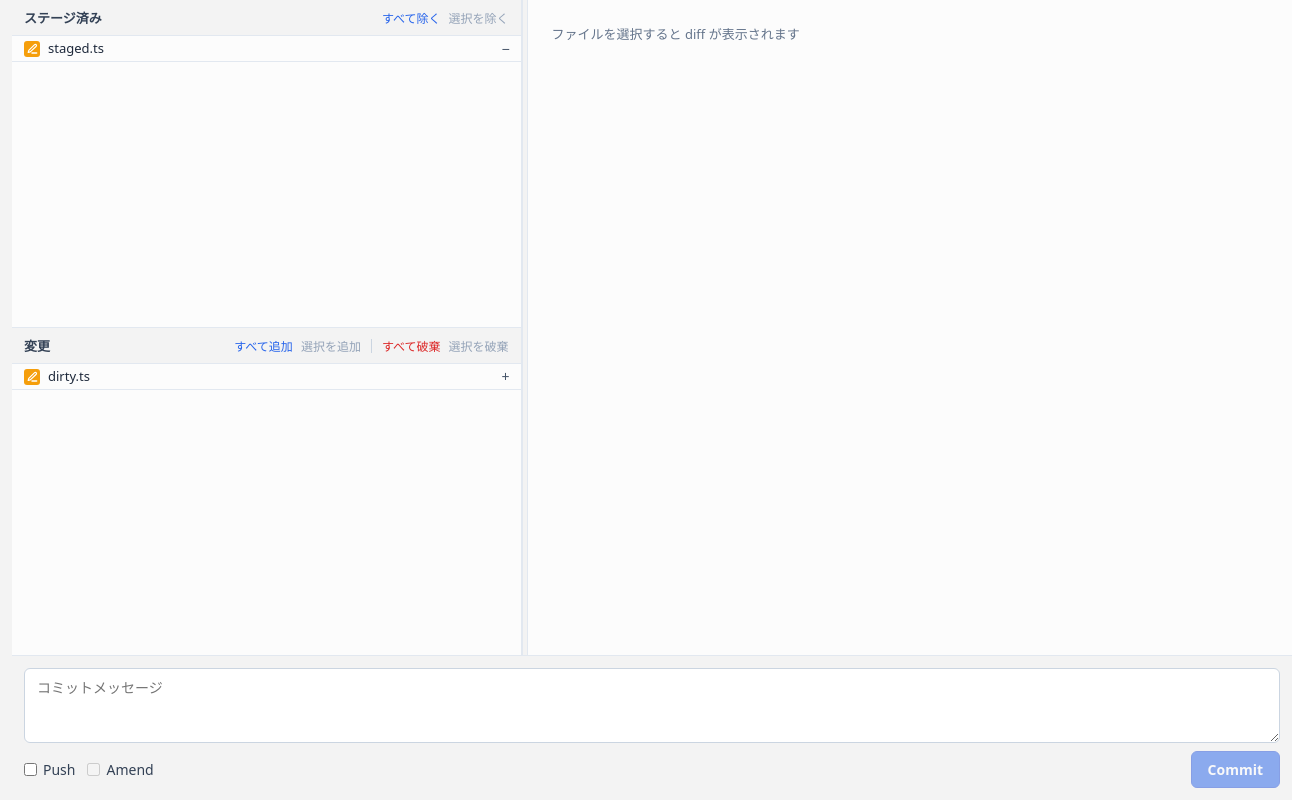
it: GitWorkspace › opens unstaged file diff on click
expect the text "ファイルを選択すると diff が表示されます" is shown: met, box [552,25,800,43]
Click the button "dirty.ts": (69, 376) [12,364,497,389]
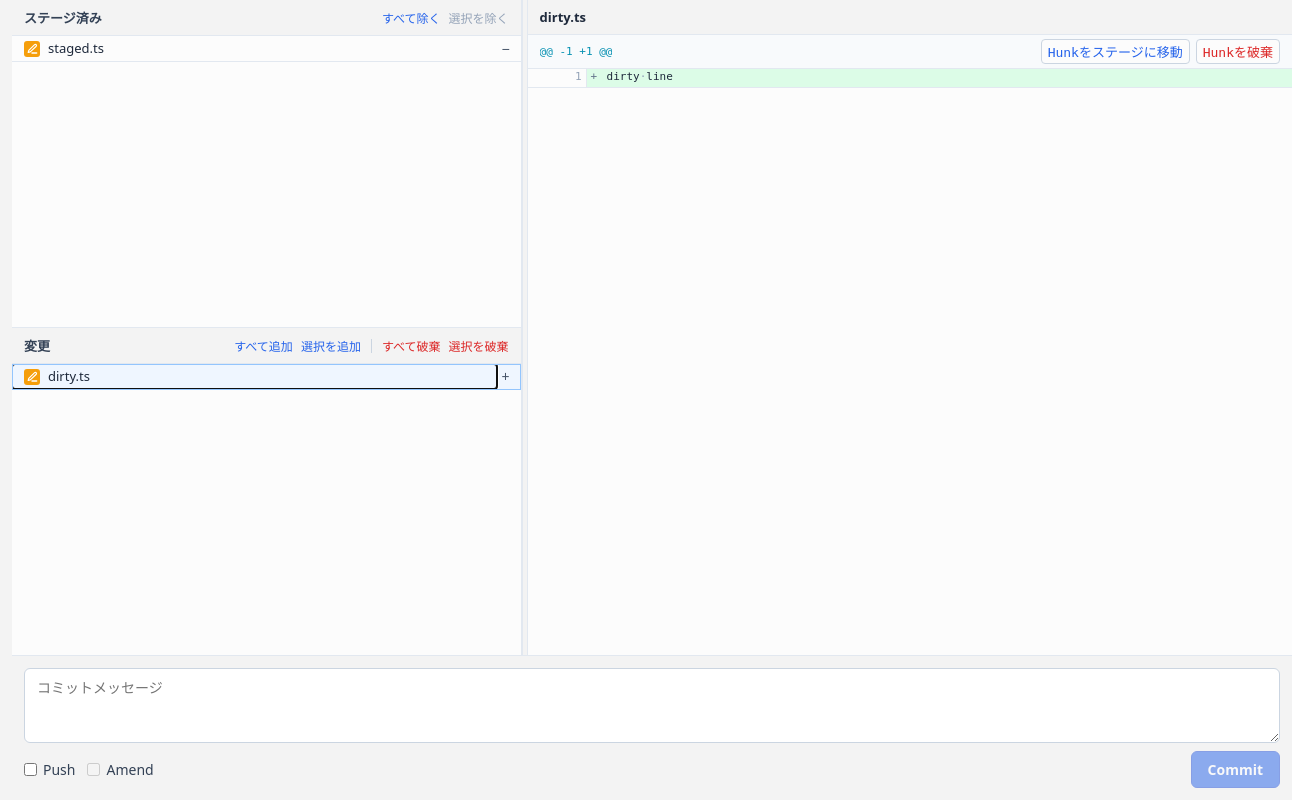
expect the heading "dirty.ts" is shown: met, box [540,8,586,26]
expect the button "Hunkをステージに移動" is shown: met, box [1041,39,1190,64]
